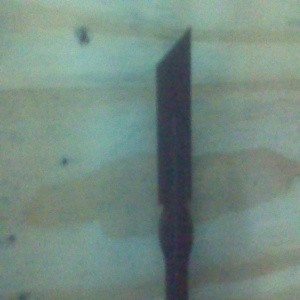cutter: (153, 24, 196, 300)
